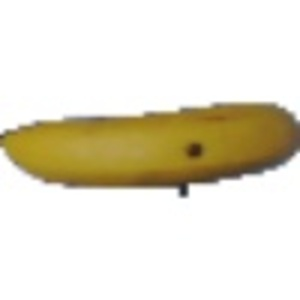banana: (4, 98, 300, 183)
